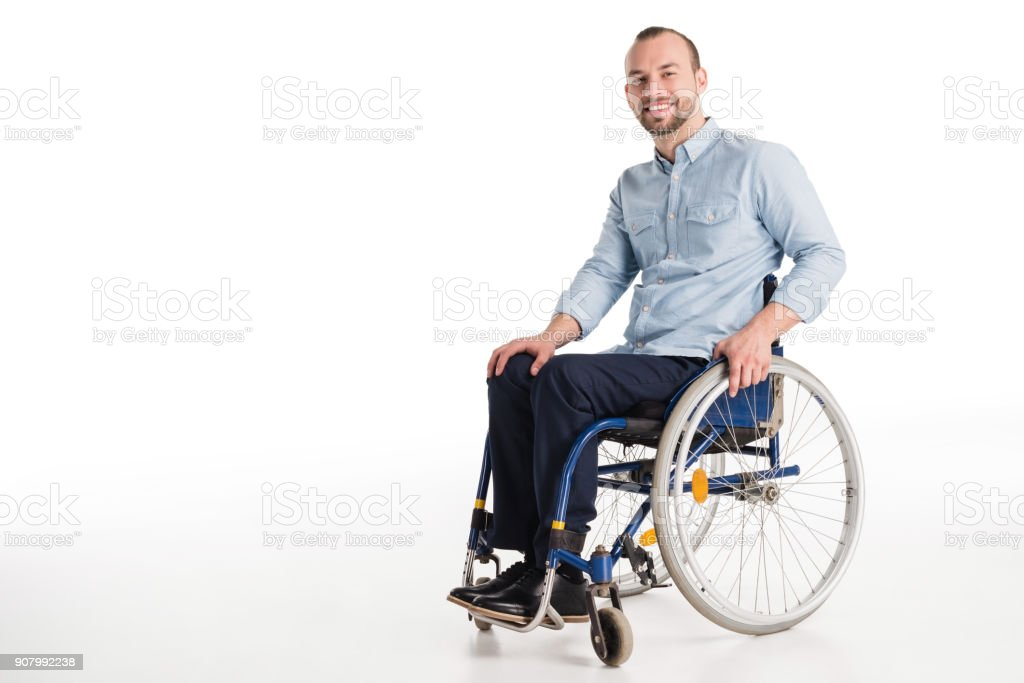wheelchair: (445, 27, 867, 665)
